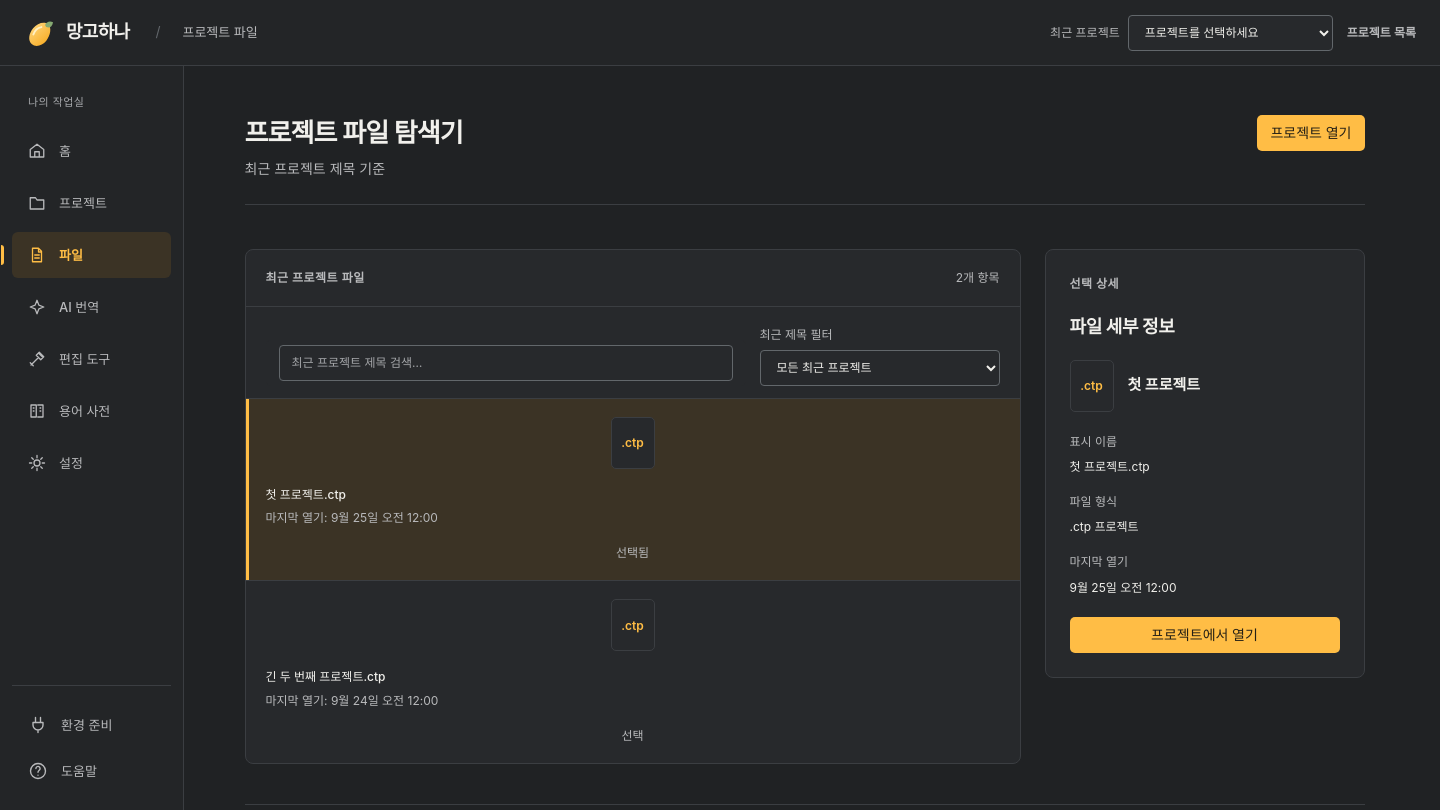
Test: FileBrowserPage › exposes the inspected file as selected after filtering and preserves Space/Enter actions
Type "두 번째" into the search field named "파일명 검색" at (506, 363), box [278,345,732,381]
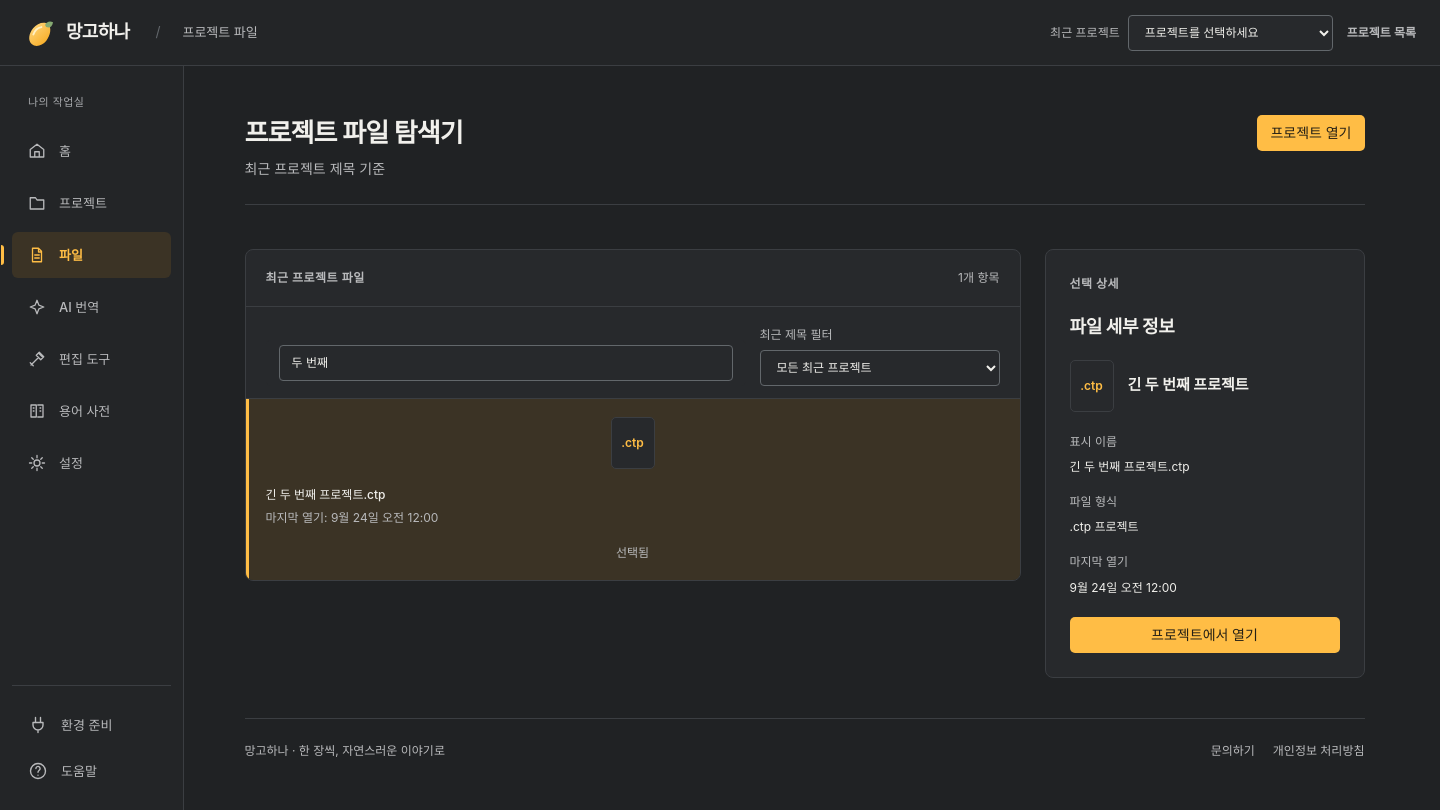
Check: the text "파일 형식" is shown, box [1070,494,1117,509]
Check: the button with aria-label "파일: 긴 두 번째" is pressed
Press Space in the button with aria-label "파일: 긴 두 번째", box [246,398,1020,580]
Press Enter in the button with aria-label "파일: 긴 두 번째", box [246,398,1020,580]
Replace the text in the search field named "파일명 검색" with "없는 파일" at (506, 363), box [278,345,732,381]
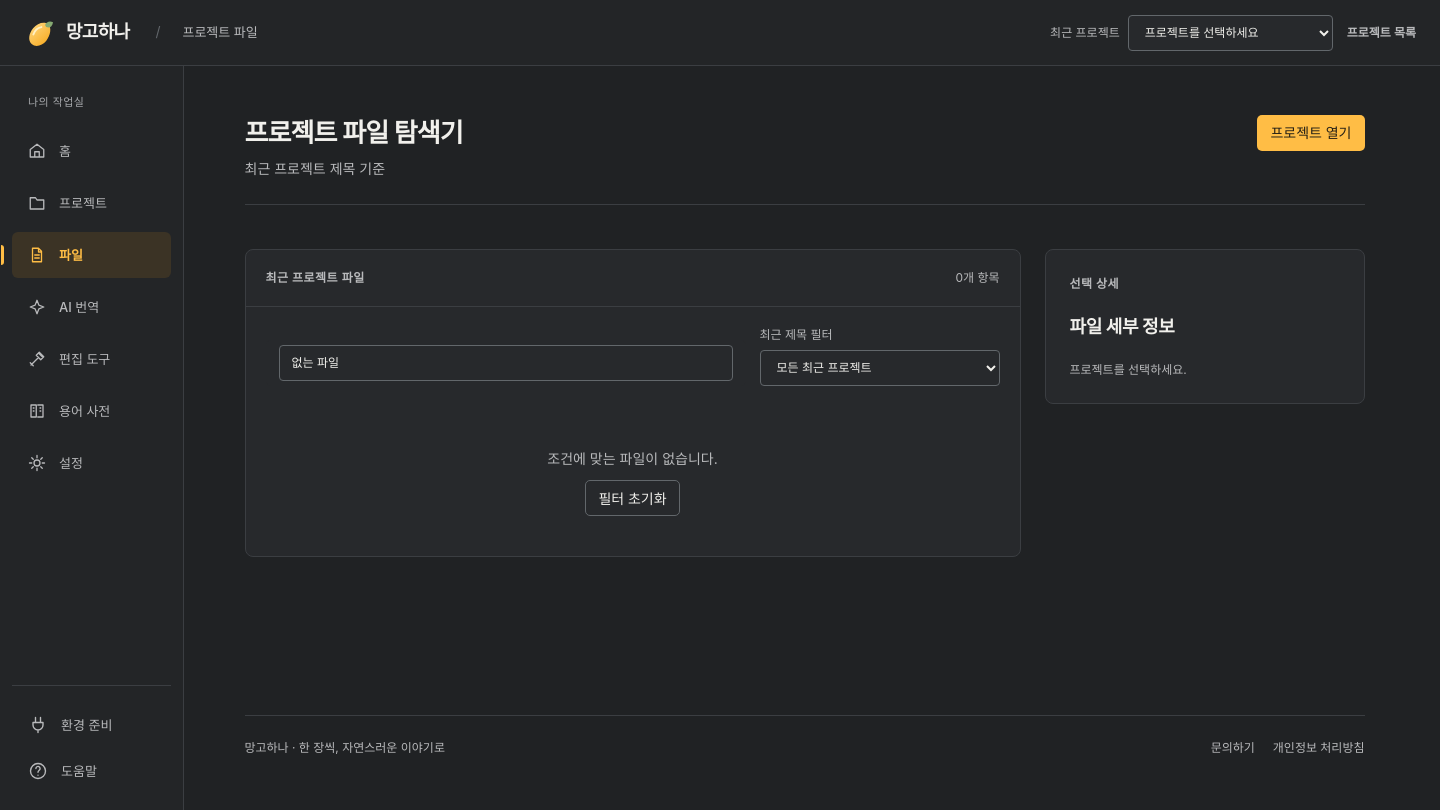
Check: the text "조건에 맞는 파일이 없습니다." is shown, box [547,450,718,467]
